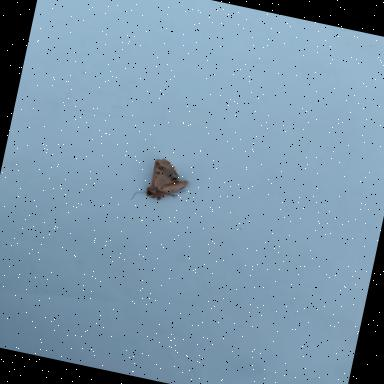abw: (127, 152, 194, 212)
